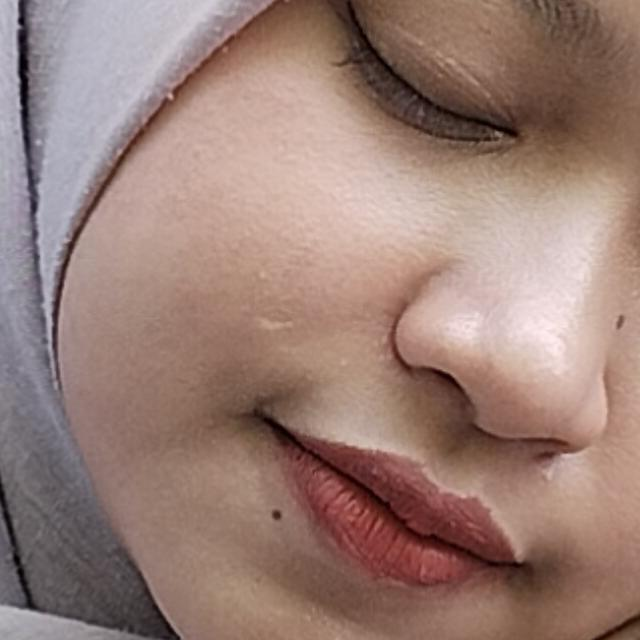tidur: (136, 218, 640, 640)
